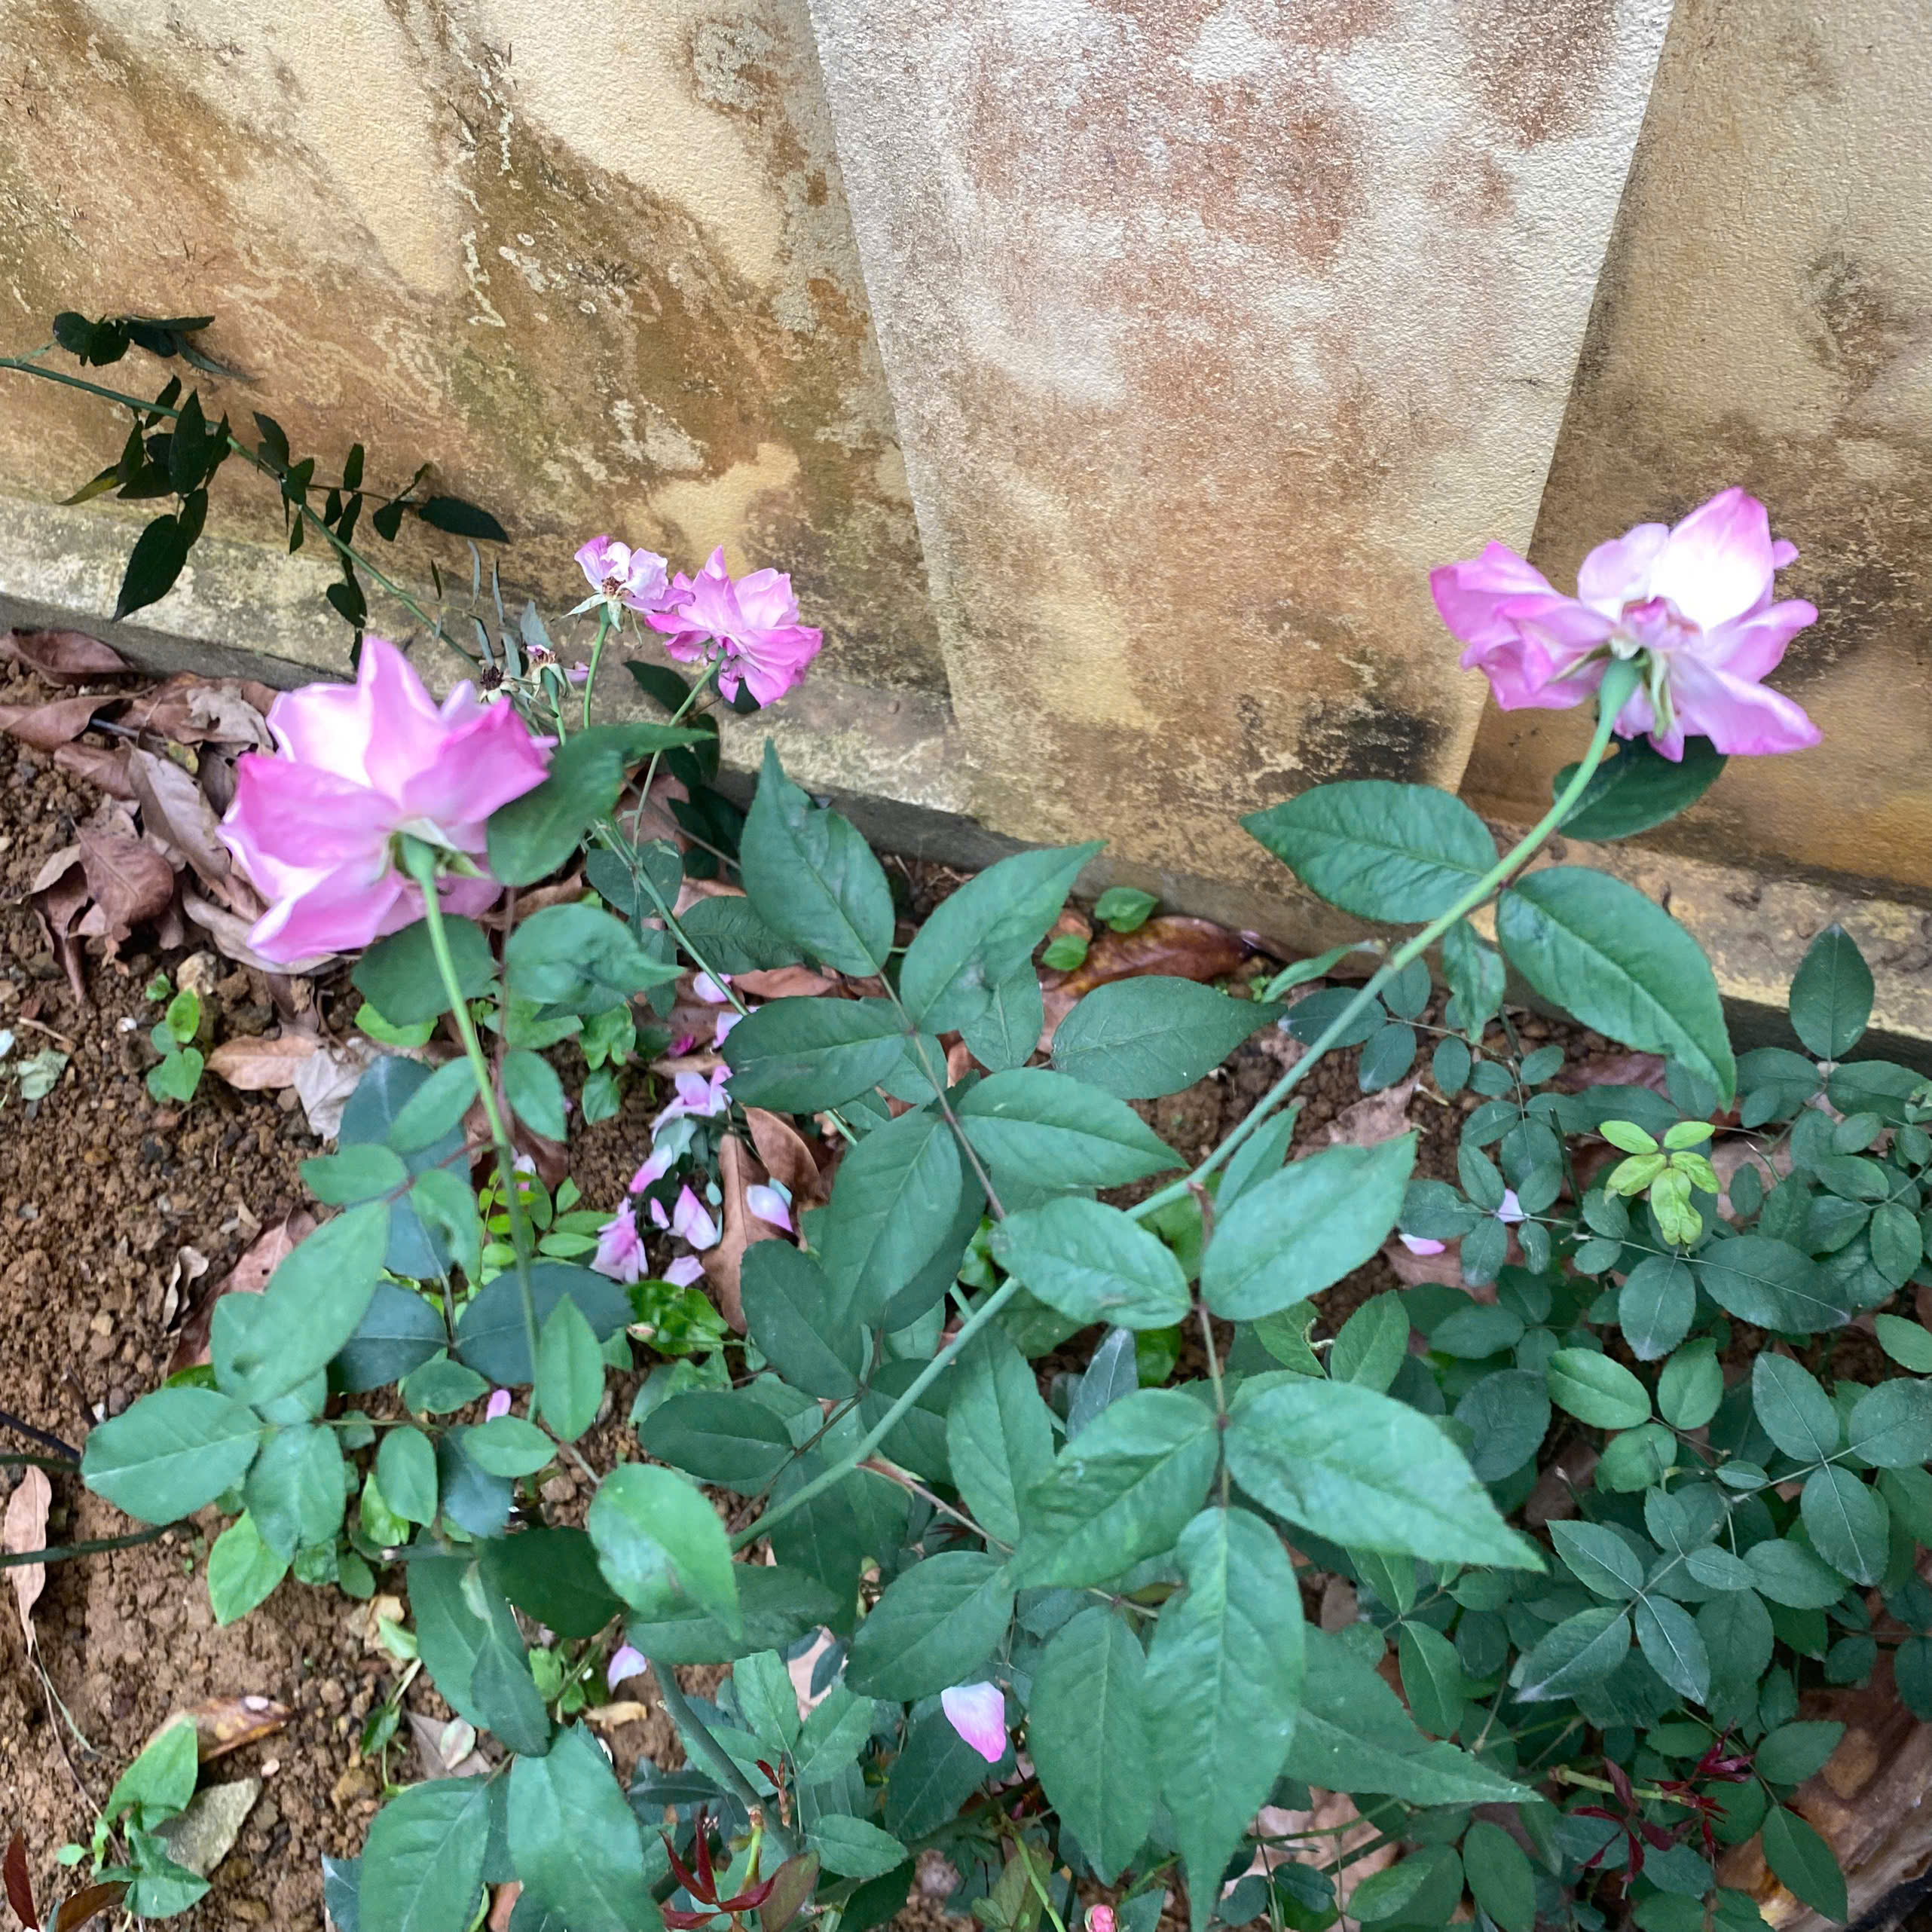hoa_hong_phan: (188, 499, 1872, 1856)
